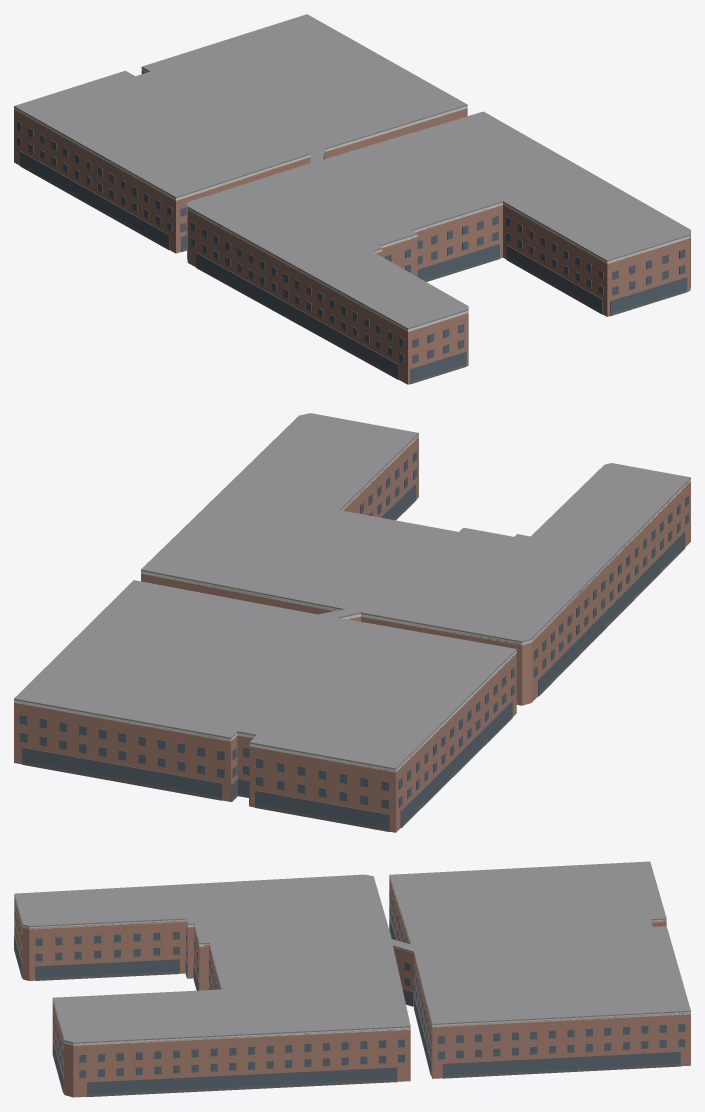
The model's file is s28_tile_tile__1__1_78.glb.
3 renders of one model, top to bottom at view 1: azimuth 30°, elevation 25°; view 2: azimuth 150°, elevation 25°; view 3: azimuth 270°, elevation 25°, orthographic. The views are drawn at different scales.
Visible parts, largest first — view 1: roofcap, mass, cornice, store_12, store_6, store_21, store_20, store_22, store_13, bulk_12; view 2: roofcap, mass, cornice, store_1, store_12, store_5, store_6, bulk_1; view 3: roofcap, mass, store_24, store_0, cornice, store_15, bulk_24, bulk_0, bulk_15.
Part boxes in pixels (x1,y1,x2,y2): roofcap: [14, 14, 690, 329]; mass: [14, 69, 690, 384]; cornice: [14, 68, 690, 331]; store_12: [196, 253, 398, 377]; store_6: [20, 151, 169, 248]; store_21: [506, 245, 602, 312]; store_20: [417, 244, 499, 280]; store_22: [610, 277, 687, 314]; store_13: [410, 351, 466, 381]; bulk_12: [196, 265, 398, 379]; roofcap: [14, 413, 690, 769]; mass: [14, 435, 690, 832]; cornice: [14, 434, 690, 772]; store_1: [22, 747, 222, 798]; store_12: [538, 531, 685, 695]; store_5: [255, 790, 389, 828]; store_6: [400, 701, 512, 826]; bulk_1: [22, 762, 222, 800]; roofcap: [14, 861, 690, 1043]; mass: [14, 879, 690, 1097]; store_24: [87, 1067, 397, 1094]; store_0: [442, 1051, 680, 1075]; cornice: [14, 877, 690, 1045]; store_15: [35, 959, 179, 979]; bulk_24: [87, 1079, 397, 1096]; bulk_0: [442, 1064, 680, 1078]; bulk_15: [35, 971, 179, 980].
Bounding box in the file's own units: 76.68 × 10.85 × 121.
